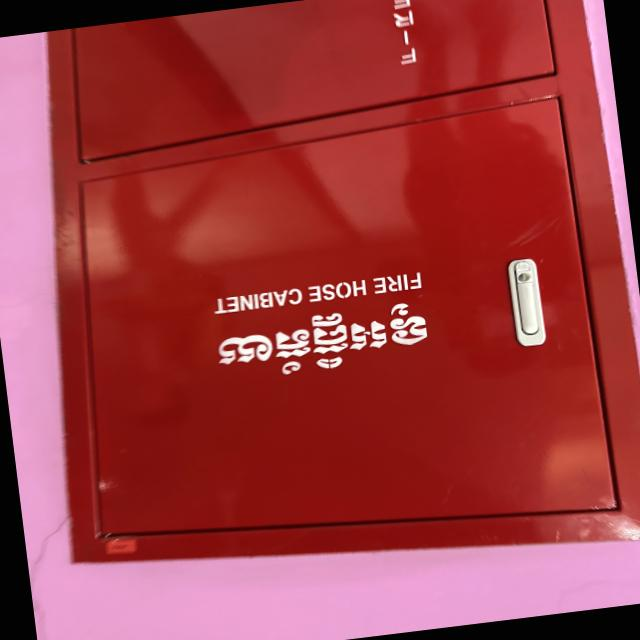Yolov11_80vkh: (212, 301, 447, 382)
